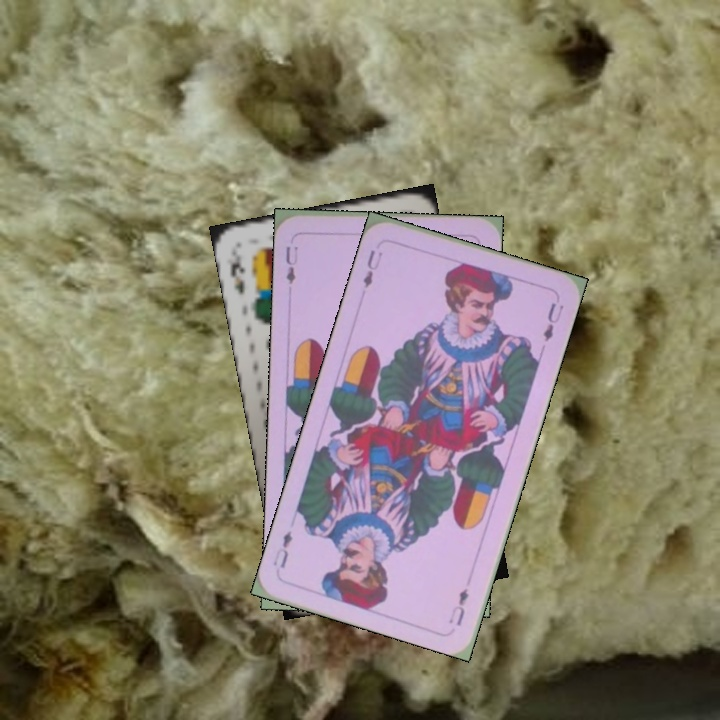EK: (226, 257, 248, 297)
EU: (359, 245, 385, 291), (445, 584, 471, 629), (282, 242, 300, 286)
